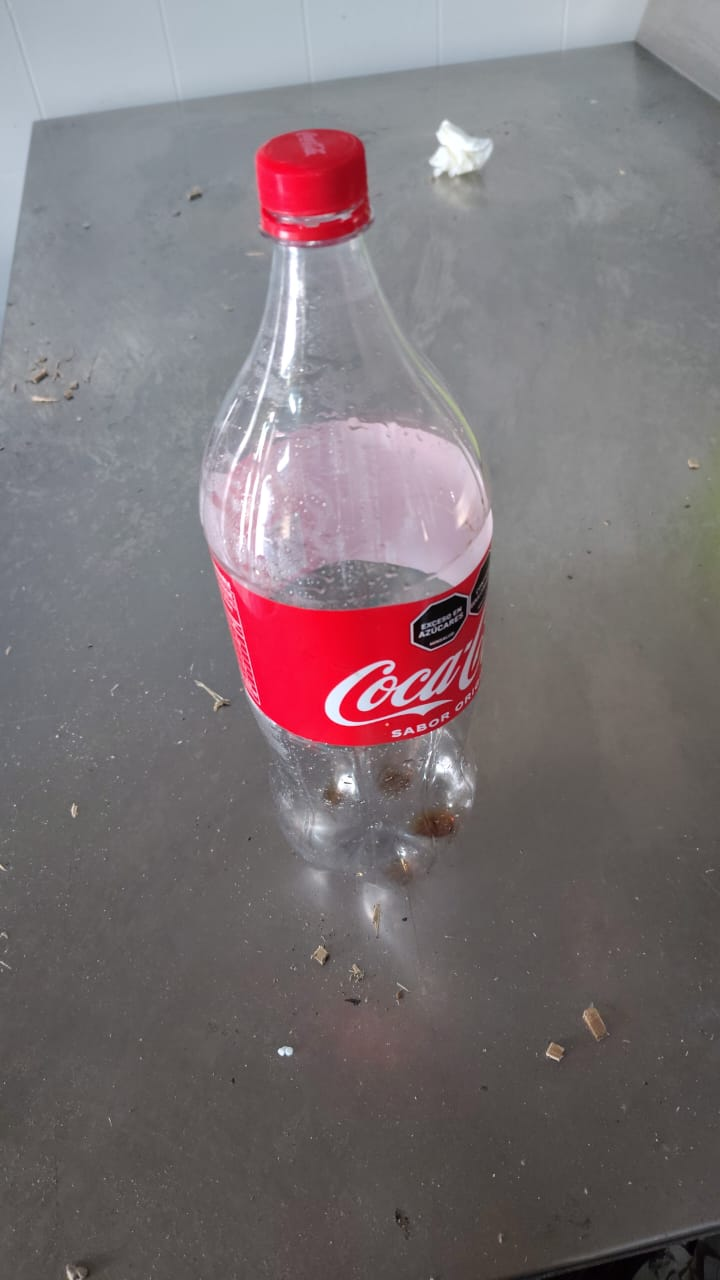Plastico: (198, 129, 493, 893)
